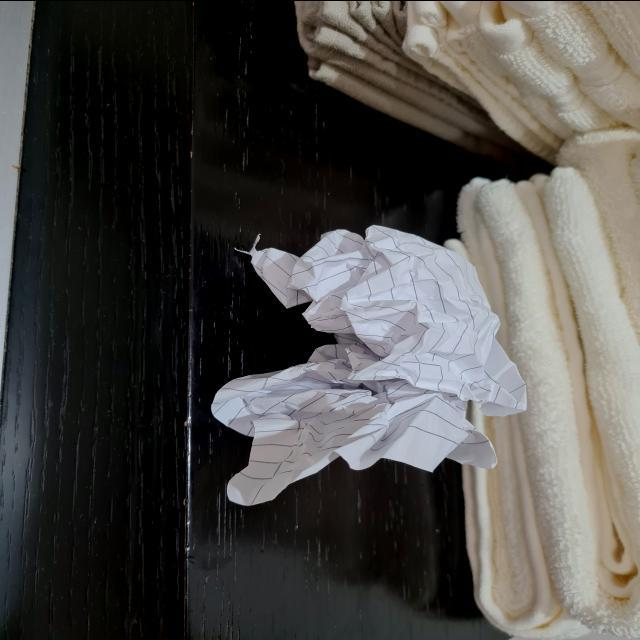Paper: (207, 217, 513, 499)
